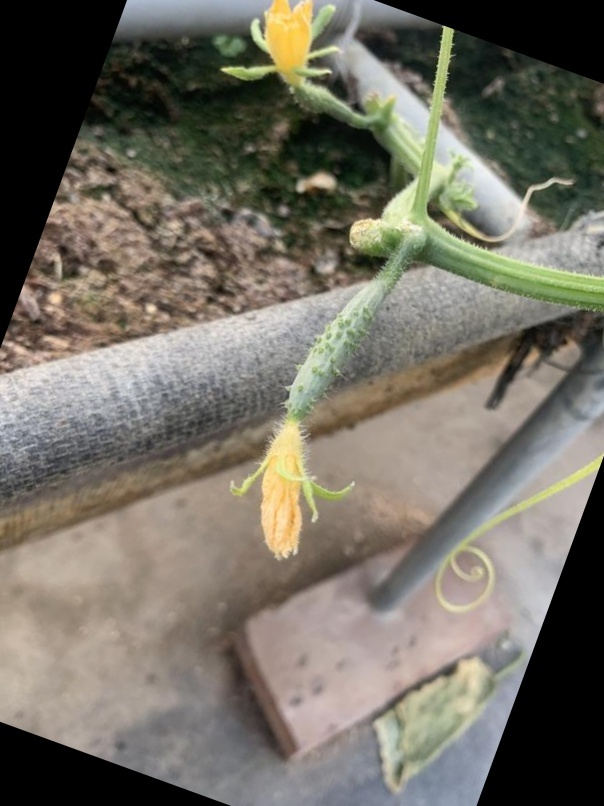bear: (216, 250, 408, 568), (229, 0, 365, 131)
